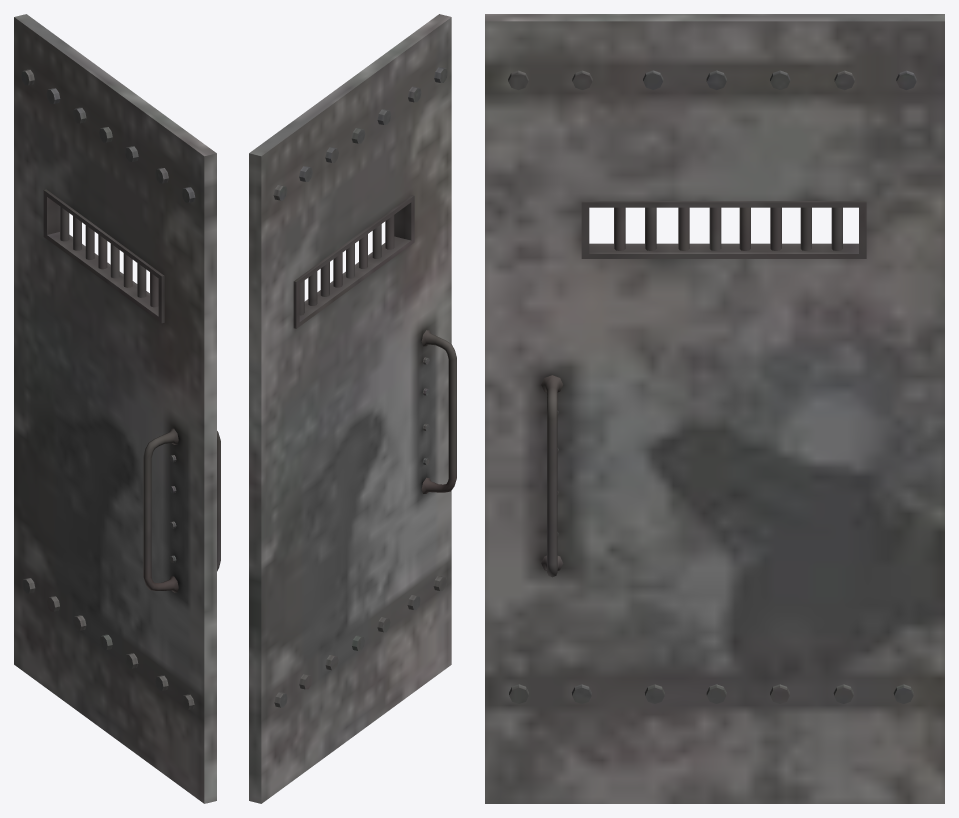
Rendered from SM_Door_Iron_9d811f.glb.
3 views of the same model, side by side, from view 1: azimuth 30°, elevation 25°; view 2: azimuth 150°, elevation 25°; view 3: azimuth 270°, elevation 25° (orthographic). The views are drawn at different scales.
Bounding box in the file's own units: 0.2839 × 2.3 × 1.23.
1 material, 1 textured.
